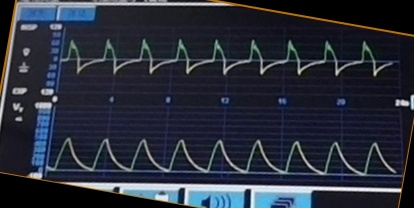Accumulation Flow: (65, 32, 384, 90)
Volume: (55, 125, 395, 183)
